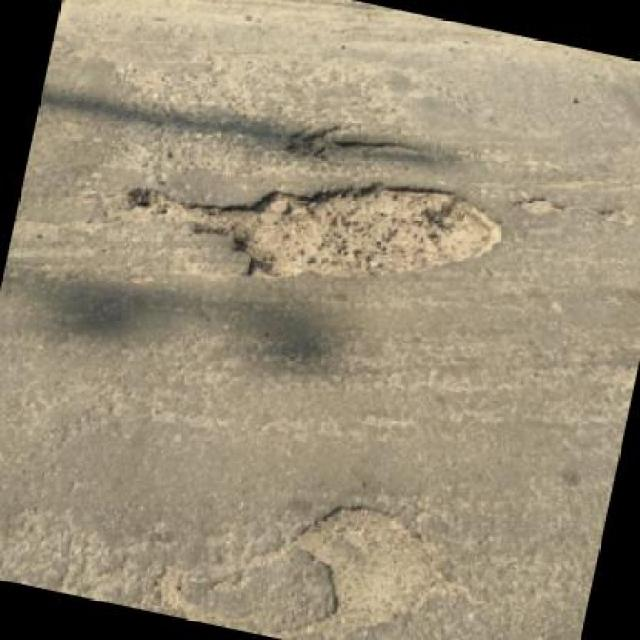pothole1: (112, 120, 514, 328), (271, 489, 449, 638), (280, 110, 429, 184), (515, 188, 568, 222)
